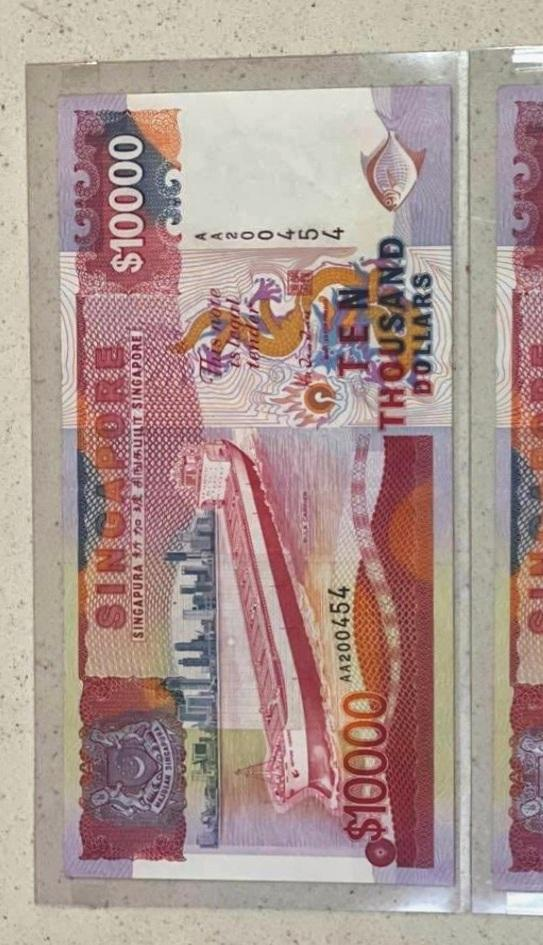10000SingaporeDollar: (59, 88, 450, 878)
